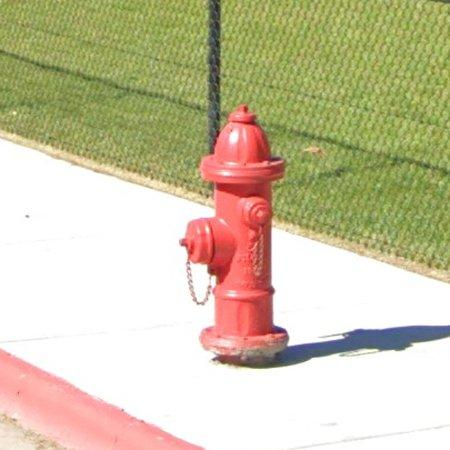a fire hydrant: (180, 105, 289, 363)
